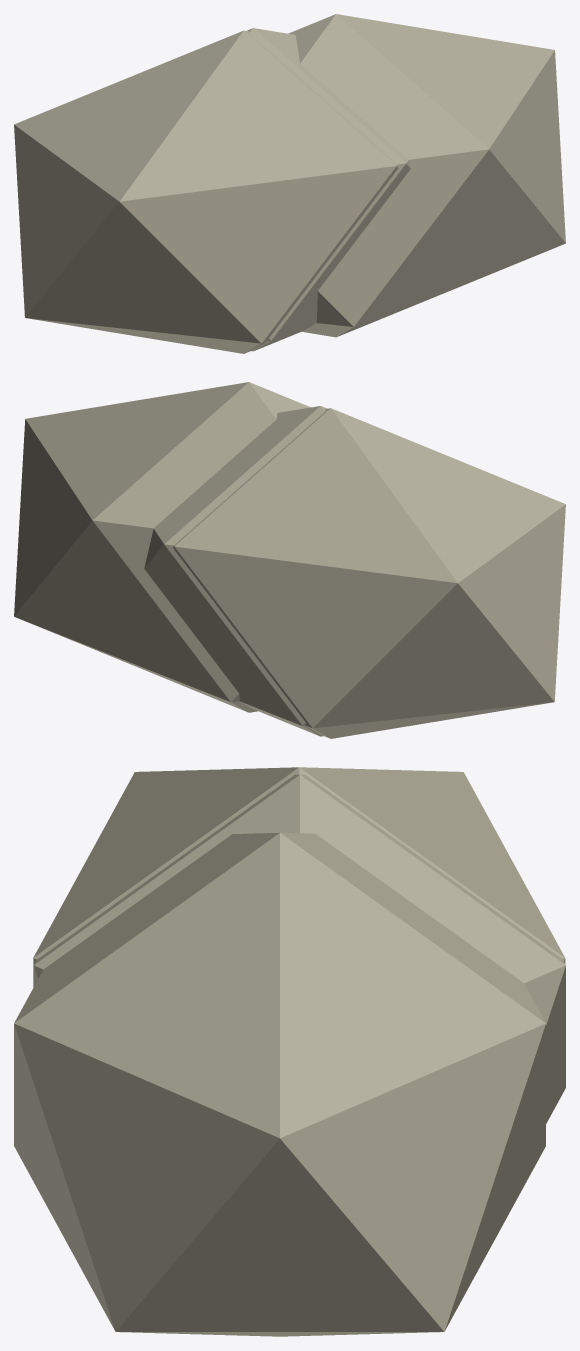
Rendered from rocks.glb.
The picture shows the model from 3 angles, top to bottom: view 1: azimuth 30°, elevation 25°; view 2: azimuth 150°, elevation 25°; view 3: azimuth 270°, elevation 25°; orthographic projection. The views are drawn at different scales.
Parts seen in each view (by area): view 1: rocks; view 2: rocks; view 3: rocks.
Boxes of the visible parts, x1,y1,x2,y2 form: rocks: (14, 14, 565, 353); rocks: (14, 382, 565, 738); rocks: (14, 767, 565, 1336).
Size of the model in its own units: 0.8136 by 0.48 by 0.4765.
